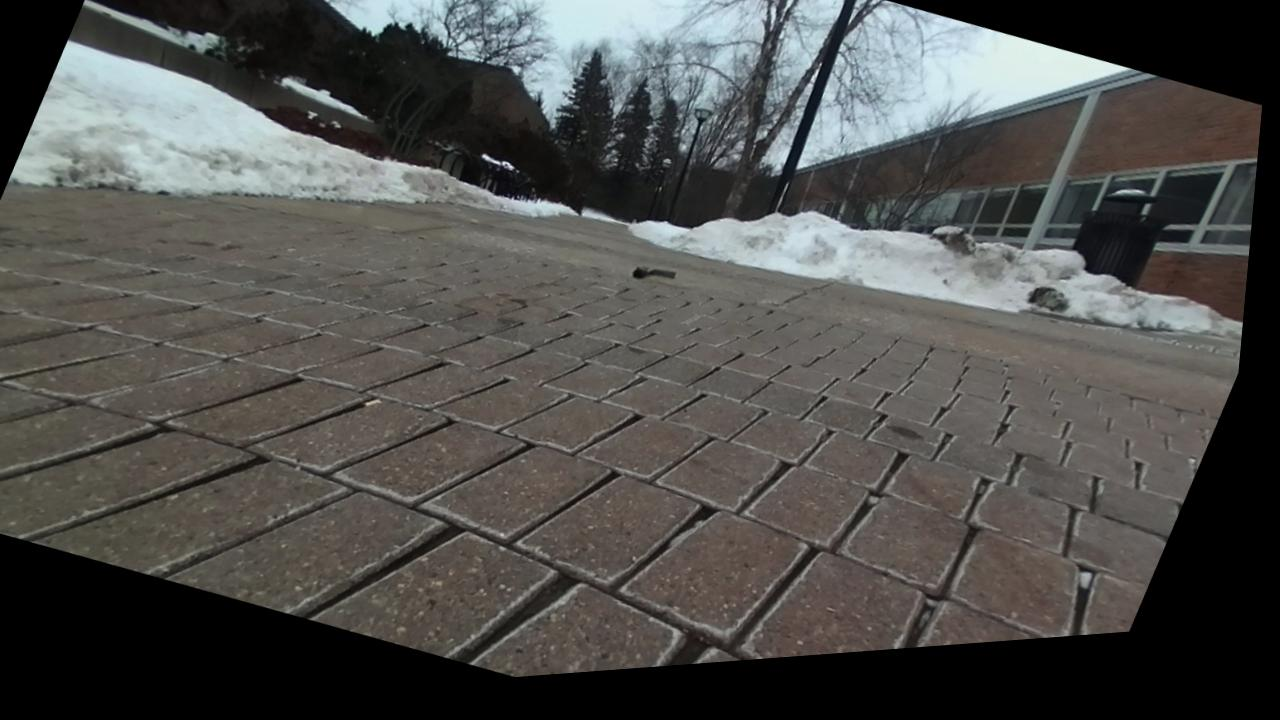pick: (632, 266, 676, 278)
